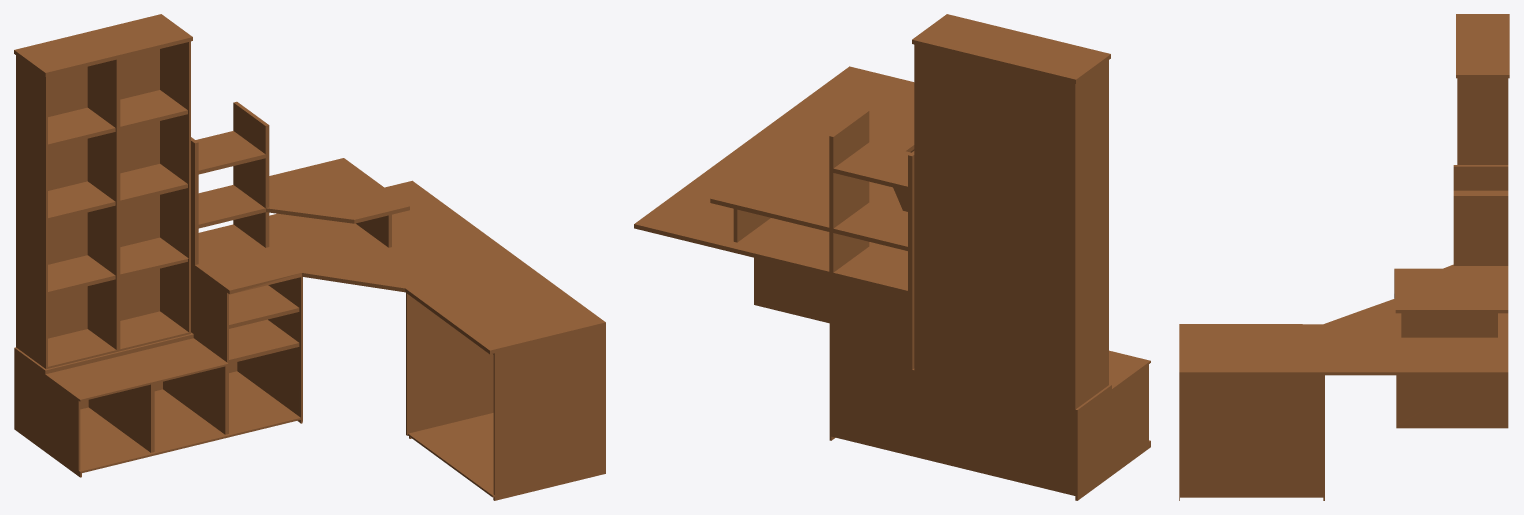
The model's file is desk---shelves-by-cmht-oculus-dBumzYGJzUG.glb.
3 renders of one model, left to right at view 1: azimuth 30°, elevation 25°; view 2: azimuth 150°, elevation 25°; view 3: azimuth 270°, elevation 25°, orthographic. The views are drawn at different scales.
Visible parts, largest first — view 1: Node; view 2: Node; view 3: Node.
Boxes of the visible parts, bbox=[...] form: Node: bbox=[14, 14, 605, 500]; Node: bbox=[634, 14, 1150, 500]; Node: bbox=[1179, 14, 1509, 500].
Size of the model in its own units: 84.47 by 76.78 by 71.37.
